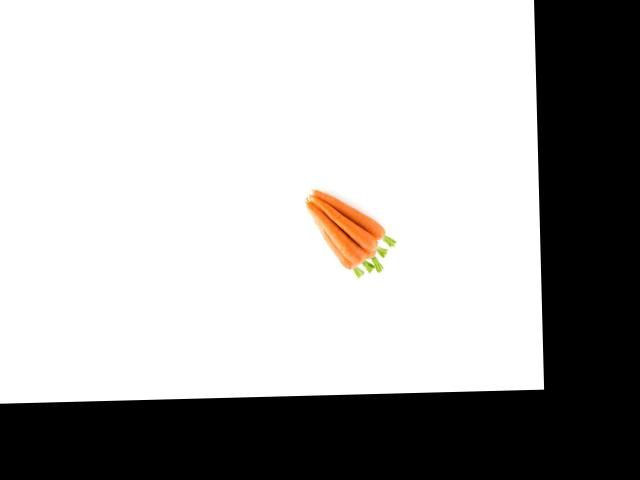carrot: (314, 181, 390, 239)
